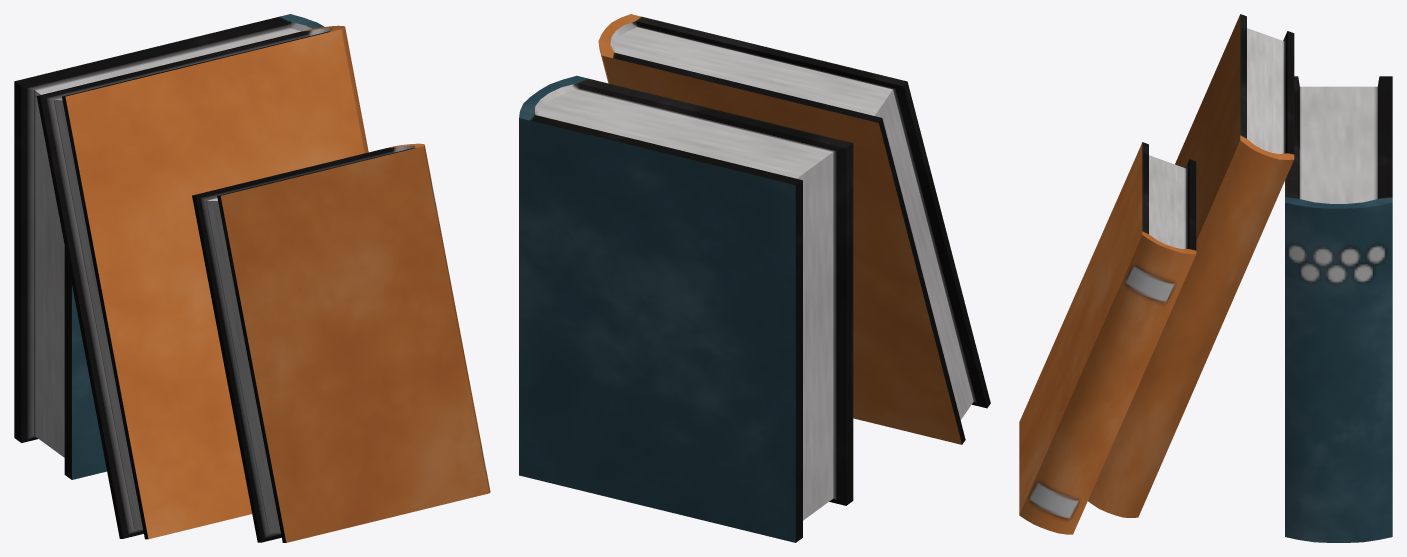
Rendered from BooksB.fbx.
3 renders of one model, left to right at view 1: azimuth 30°, elevation 25°; view 2: azimuth 150°, elevation 25°; view 3: azimuth 270°, elevation 25°, orthographic. The views are drawn at different scales.
Visible parts, largest first — view 1: BooksB; view 2: BooksB; view 3: BooksB.
Part boxes in pixels (x1,y1,x2,y2): BooksB: [14, 14, 490, 542]; BooksB: [519, 14, 990, 542]; BooksB: [1019, 14, 1392, 542].
Size of the model in its own units: 20.59 by 25.15 by 22.25.
